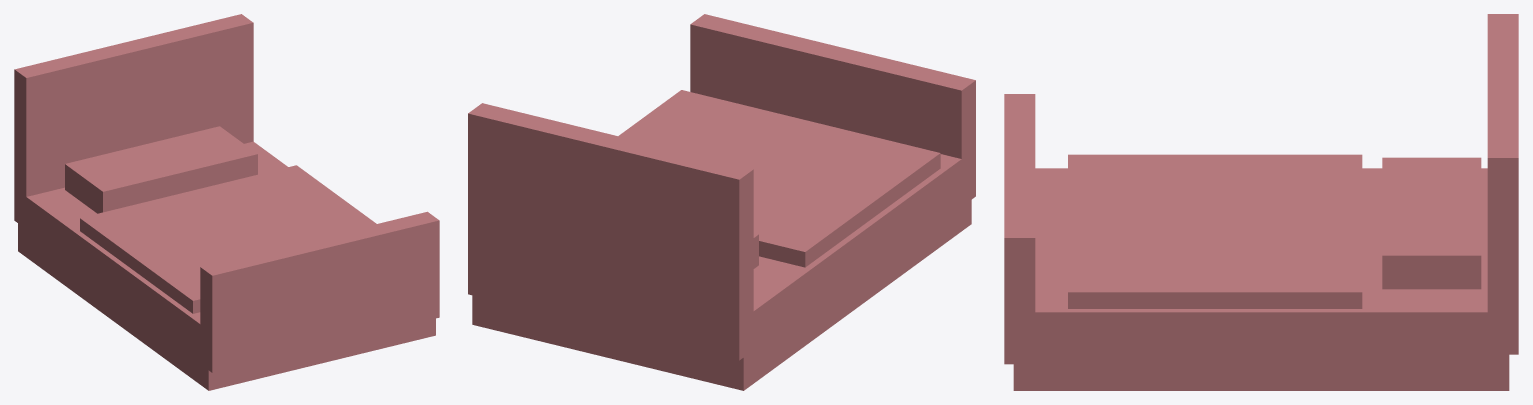
Rendered from Bed.glb.
3 views of the same model, side by side, from view 1: azimuth 30°, elevation 25°; view 2: azimuth 150°, elevation 25°; view 3: azimuth 270°, elevation 25° (orthographic). The views are drawn at different scales.
Visible parts, largest first — view 1: filler_Bed; view 2: filler_Bed; view 3: filler_Bed.
Boxes of the visible parts, left/top/right/bottom form: filler_Bed: left=14, top=14, right=439, bottom=390; filler_Bed: left=468, top=14, right=975, bottom=390; filler_Bed: left=1004, top=14, right=1518, bottom=390.
Size of the model in its own units: 1.1 by 0.83 by 1.66.
